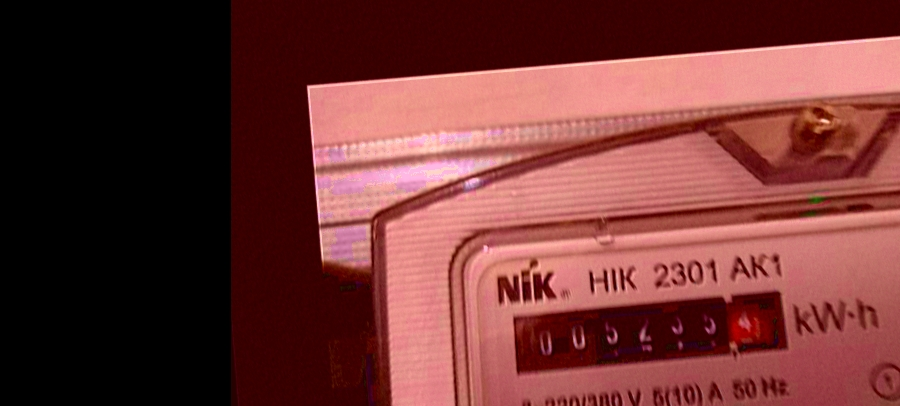0: (569, 318, 591, 353), (537, 325, 558, 358)
2: (634, 310, 658, 346)
3: (666, 305, 693, 340)
4: (735, 299, 760, 337)
5: (700, 301, 725, 339), (603, 314, 624, 348)
screen: (496, 276, 804, 388)
